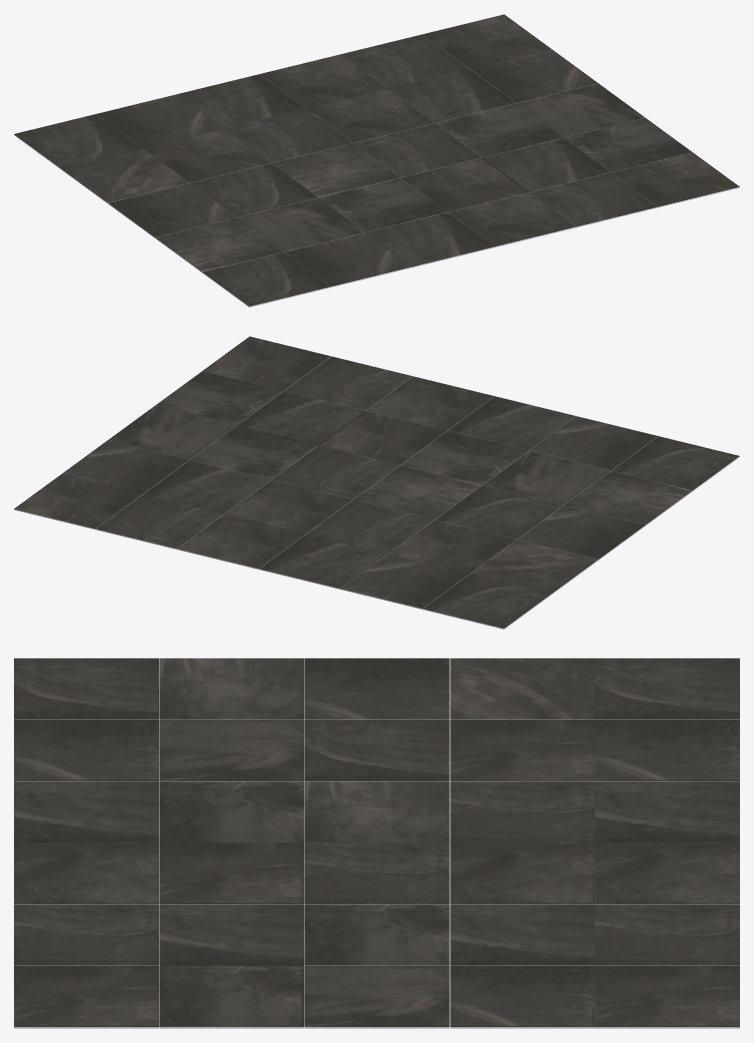
The model's file is factory_map.dae.
3 views of the same model, one above another, from view 1: azimuth 30°, elevation 25°; view 2: azimuth 150°, elevation 25°; view 3: azimuth 270°, elevation 25° (orthographic). The views are drawn at different scales.
Parts seen in each view (by area): view 1: skp3D6B (×29); view 2: skp3D6B (×29); view 3: skp3D6B (×29).
Boxes of the visible parts, x1=… form: skp3D6B (×29): x1=14, y1=14, x2=739, y2=306; skp3D6B (×29): x1=14, y1=336, x2=739, y2=628; skp3D6B (×29): x1=14, y1=658, x2=739, y2=1026.
Bounding box in the file's own units: 142 × 118 × 0.2953.
11 materials, 10 textured.
